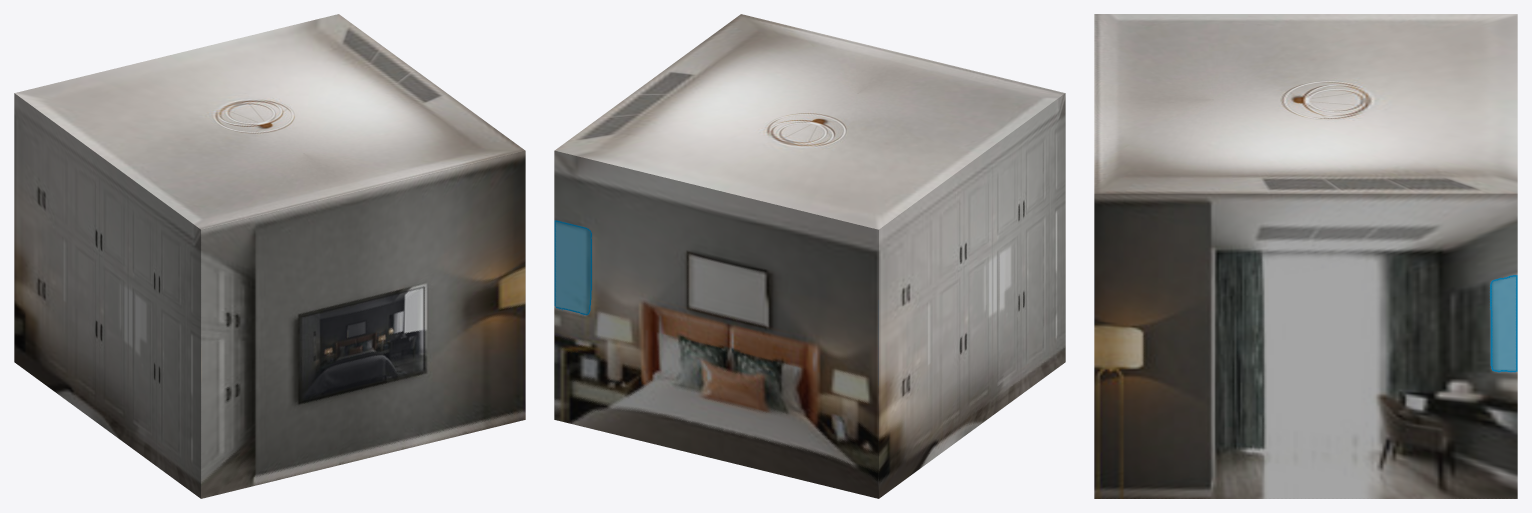
File: room.obj
3 renders of one model, left to right at view 1: azimuth 30°, elevation 25°; view 2: azimuth 150°, elevation 25°; view 3: azimuth 270°, elevation 25°, orthographic. The views are drawn at different scales.
Visible parts, largest first — view 1: wall_03, ceiling, wall_00; view 2: wall_01, ceiling, wall_00; view 3: wall_02, ceiling.
Boxes of the visible parts, left/top/right/bottom form: wall_03: left=201, top=150, right=525, bottom=498; ceiling: left=14, top=14, right=524, bottom=229; wall_00: left=14, top=93, right=200, bottom=498; wall_01: left=554, top=150, right=878, bottom=498; ceiling: left=555, top=14, right=1065, bottom=229; wall_00: left=879, top=93, right=1065, bottom=498; wall_02: left=1094, top=193, right=1517, bottom=498; ceiling: left=1094, top=14, right=1517, bottom=193.
Bounding box in the file's own units: 3.36 × 2.67 × 3.35.
6 materials, 6 textured.
